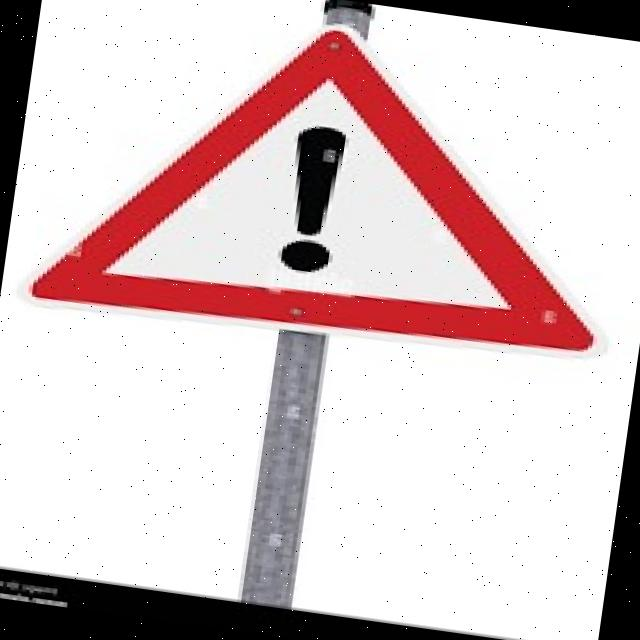warning: (26, 0, 632, 385)
